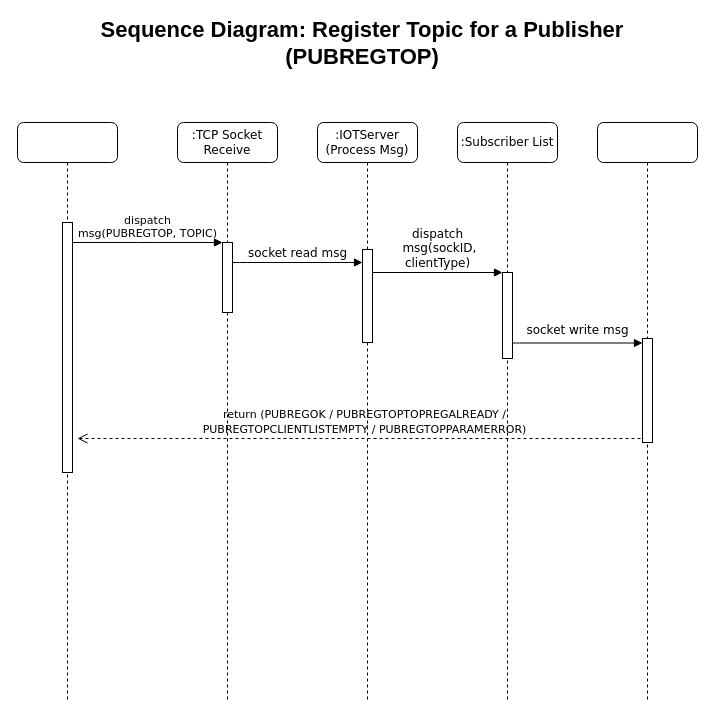
The diagram is 715 pixels wide and 720 high, and some of its shapes have lost their labels. The box of each missing label's shape, as (x1, y1, x2, y2) in pixels:
:IOTClient (Publisher): (16, 122, 118, 702)
:TCP Socket Send: (596, 122, 698, 702)
